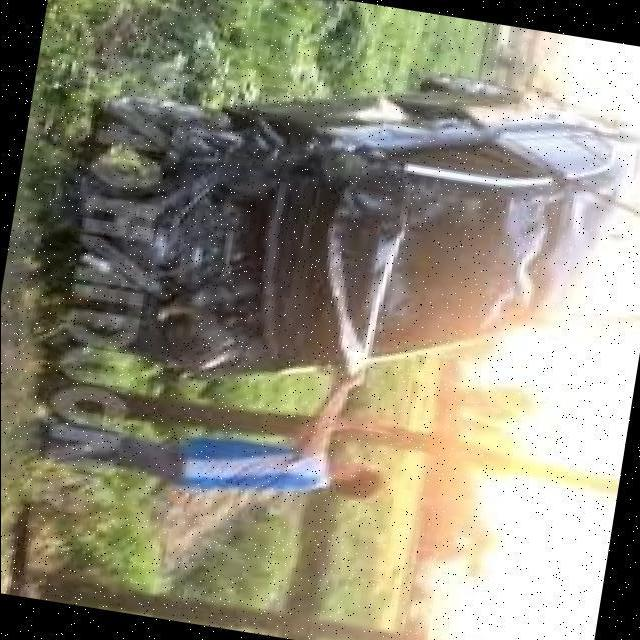accident: (27, 3, 640, 458)
